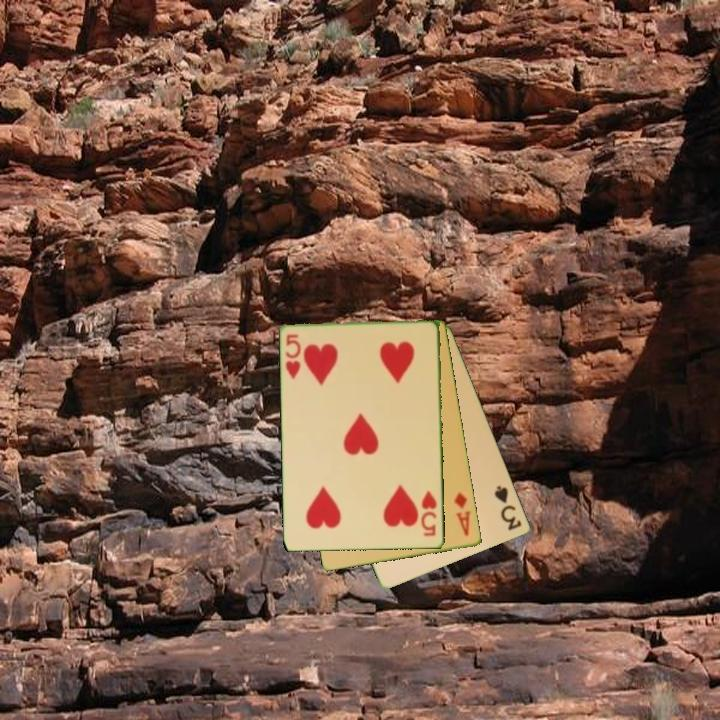3s: (491, 482, 525, 533)
5h: (418, 488, 440, 539), (282, 331, 304, 382)
Ad: (451, 489, 474, 539)
